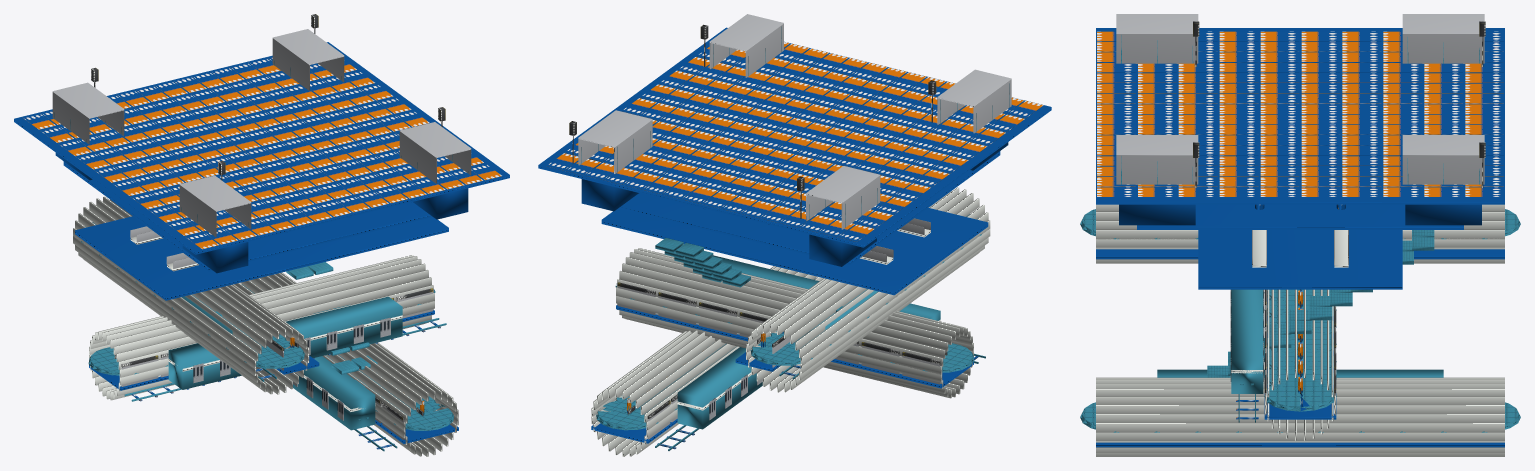
3 renders of one model, left to right at view 1: azimuth 30°, elevation 25°; view 2: azimuth 150°, elevation 25°; view 3: azimuth 270°, elevation 25°, orthographic. The views are drawn at different scales.
Visible parts, largest first — view 1: transit_surface_and_entrances, transit_line3_subway_tube, transit_concourse_and_transfer_hall, transit_line5_subway_tube, transit_line1_subway_tube; view 2: transit_surface_and_entrances, transit_line3_subway_tube, transit_concourse_and_transfer_hall, transit_line5_subway_tube, transit_line1_subway_tube; view 3: transit_surface_and_entrances, transit_line5_subway_tube, transit_concourse_and_transfer_hall, transit_line3_subway_tube, transit_line1_subway_tube.
Boxes of the visible parts, x1,y1,x2,y2 form: transit_surface_and_entrances: (14, 14, 509, 273); transit_line3_subway_tube: (88, 255, 446, 401); transit_concourse_and_transfer_hall: (63, 161, 448, 300); transit_line5_subway_tube: (234, 262, 458, 456); transit_line1_subway_tube: (73, 196, 319, 394); transit_surface_and_entrances: (538, 14, 1051, 266); transit_line3_subway_tube: (615, 248, 985, 398); transit_concourse_and_transfer_hall: (601, 151, 1000, 295); transit_line5_subway_tube: (591, 238, 823, 456); transit_line1_subway_tube: (735, 187, 990, 392); transit_surface_and_entrances: (1096, 14, 1504, 225); transit_line5_subway_tube: (1080, 230, 1520, 456); transit_concourse_and_transfer_hall: (1137, 204, 1463, 289); transit_line3_subway_tube: (1230, 289, 1336, 440); transit_line1_subway_tube: (1080, 204, 1520, 263).
Size of the model in its own units: 43.1 by 36.65 by 43.1.
2 materials, 2 textured.
